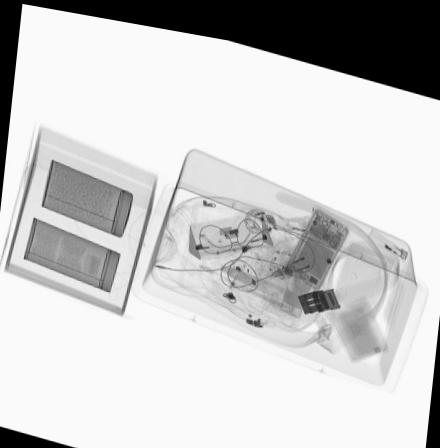Lighter: (366, 213, 410, 247)
